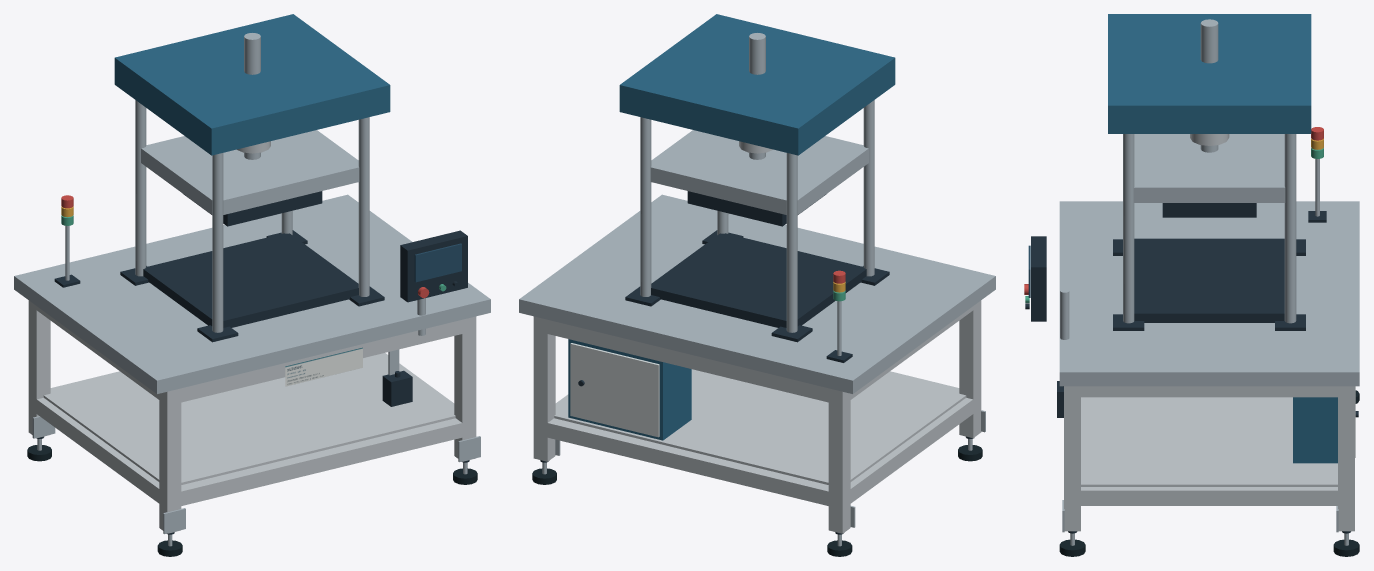
File: compression-test-cell.glb
3 renders of one model, left to right at view 1: azimuth 30°, elevation 25°; view 2: azimuth 150°, elevation 25°; view 3: azimuth 270°, elevation 25°, orthographic. The views are drawn at different scales.
Visible parts, largest first — view 1: ClosedMachineBed_28, LowerShelf_29, PressCrown_56, LowerDie_61, ToolPlate_58, SlottedExtrusion_22, SlottedExtrusion_23, SlottedExtrusion_8, SlottedExtrusion_24, ConsoleBack_34, SlottedExtrusion_18, SlottedExtrusion_3 (+9 smaller); view 2: ClosedMachineBed_28, PressCrown_56, LowerShelf_29, LowerDie_61, ToolPlate_58, BackDoor_31, SlottedExtrusion_20, SlottedExtrusion_21, SlottedExtrusion_3, Cabinet_30, SlottedExtrusion_13, SlottedExtrusion_24 (+7 smaller); view 3: ClosedMachineBed_28, PressCrown_56, LowerShelf_29, LowerDie_61, ToolPlate_58, SlottedExtrusion_26, SlottedExtrusion_27, Cabinet_30, SlottedExtrusion_13, SlottedExtrusion_18, GuideColumn_52, GuideColumn_54 (+4 smaller).
Boxes of the visible parts, <box> form: ClosedMachineBed_28: <box>14,194,490,393</box>; LowerShelf_29: <box>43,354,455,484</box>; PressCrown_56: <box>114,14,390,155</box>; LowerDie_61: <box>143,233,358,327</box>; ToolPlate_58: <box>141,130,359,214</box>; SlottedExtrusion_22: <box>175,418,469,507</box>; SlottedExtrusion_23: <box>174,318,469,402</box>; SlottedExtrusion_8: <box>159,388,181,533</box>; SlottedExtrusion_24: <box>33,397,159,503</box>; ConsoleBack_34: <box>400,230,467,302</box>; SlottedExtrusion_18: <box>454,316,476,461</box>; SlottedExtrusion_3: <box>28,300,50,437</box>; ClosedMachineBed_28: <box>519,194,995,393</box>; PressCrown_56: <box>619,14,895,155</box>; LowerShelf_29: <box>554,369,966,484</box>; LowerDie_61: <box>651,233,866,327</box>; ToolPlate_58: <box>650,130,868,214</box>; BackDoor_31: <box>570,343,659,437</box>; SlottedExtrusion_20: <box>540,418,835,507</box>; SlottedExtrusion_21: <box>540,318,835,402</box>; SlottedExtrusion_3: <box>828,388,850,533</box>; Cabinet_30: <box>568,339,691,440</box>; SlottedExtrusion_13: <box>533,316,555,461</box>; SlottedExtrusion_24: <box>849,397,976,503</box>; ClosedMachineBed_28: <box>1059,201,1359,386</box>; PressCrown_56: <box>1108,14,1311,133</box>; LowerShelf_29: <box>1081,397,1337,486</box>; LowerDie_61: <box>1134,238,1284,322</box>; ToolPlate_58: <box>1133,134,1285,202</box>; SlottedExtrusion_26: <box>1072,487,1346,505</box>; SlottedExtrusion_27: <box>1072,386,1346,397</box>; Cabinet_30: <box>1293,397,1337,463</box>; SlottedExtrusion_13: <box>1338,386,1354,531</box>; SlottedExtrusion_18: <box>1064,386,1080,531</box>; GuideColumn_52: <box>1284,134,1296,323</box>; GuideColumn_54: <box>1123,134,1134,323</box>.
Size of the model in its own units: 1.55 by 1.91 by 1.29.
Materials: 11 (1 with a texture image).
